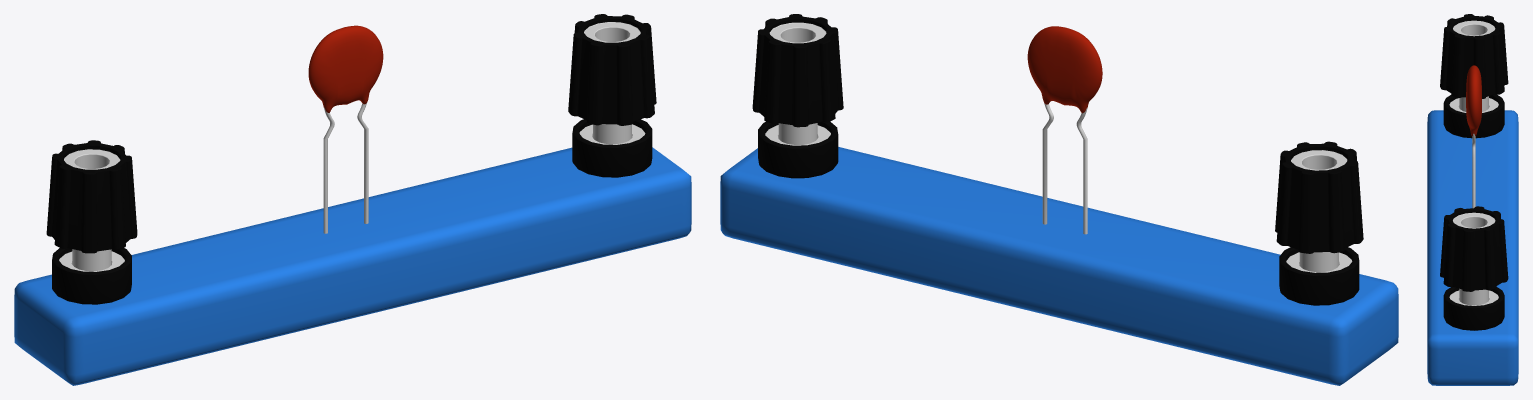
The model's file is Thermistor.fbx.
3 renders of one model, left to right at view 1: azimuth 30°, elevation 25°; view 2: azimuth 150°, elevation 25°; view 3: azimuth 270°, elevation 25°, orthographic. The views are drawn at different scales.
Visible parts, largest first — view 1: Resistor.005, Cylinder.032, Cylinder.031, Circle.003, Cylinder.030; view 2: Resistor.005, Cylinder.032, Cylinder.031, Circle.003, Cylinder.030; view 3: Resistor.005, Cylinder.032, Cylinder.031, Circle.003, Cylinder.030.
Boxes of the visible parts, x1,y1,x2,y2 form: Resistor.005: [14, 147, 691, 385]; Cylinder.032: [46, 14, 656, 271]; Cylinder.031: [52, 119, 652, 304]; Circle.003: [308, 25, 383, 112]; Cylinder.030: [323, 103, 368, 233]; Resistor.005: [720, 147, 1398, 385]; Cylinder.032: [752, 14, 1363, 272]; Cylinder.031: [758, 121, 1359, 305]; Circle.003: [1027, 26, 1102, 113]; Cylinder.030: [1042, 103, 1087, 234]; Resistor.005: [1427, 110, 1518, 385]; Cylinder.032: [1440, 14, 1508, 305]; Cylinder.031: [1443, 94, 1504, 330]; Circle.003: [1466, 65, 1481, 136]; Cylinder.030: [1472, 133, 1475, 208].
Bounding box in the file's own units: 236 × 95.84 × 39.32.
